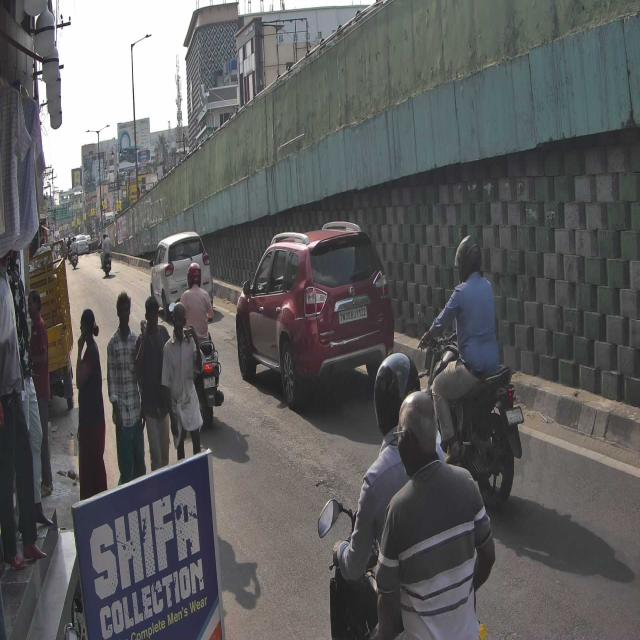single_rider: (419, 229, 528, 518)
